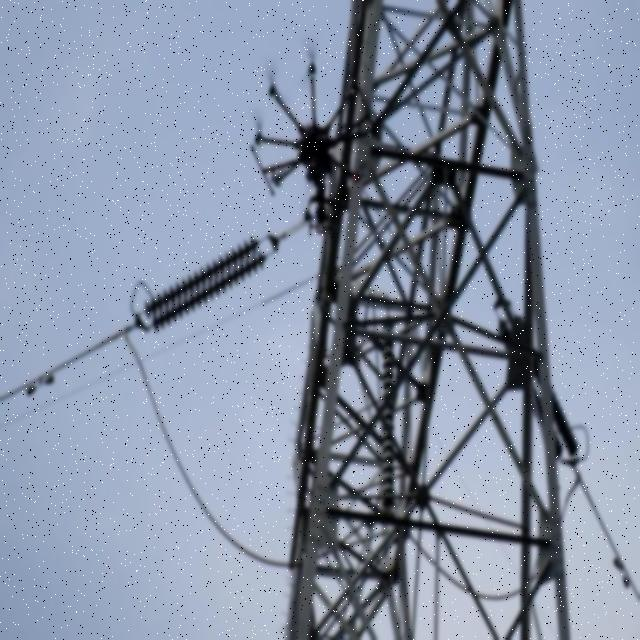UAV: (250, 41, 382, 235)
